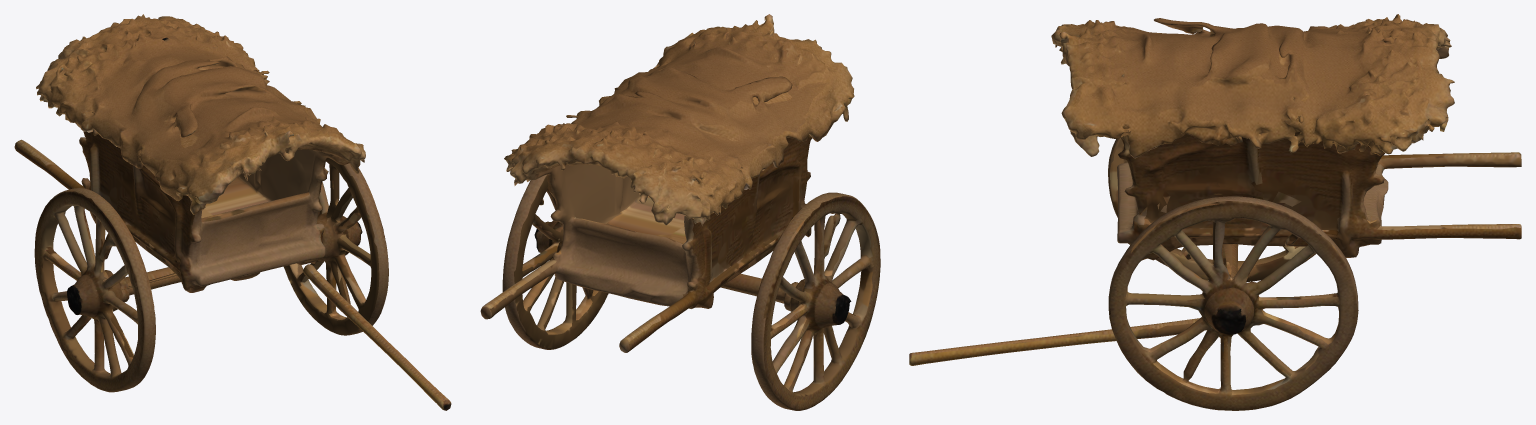
File: carreta.glb
3 views of the same model, side by side, from view 1: azimuth 30°, elevation 25°; view 2: azimuth 150°, elevation 25°; view 3: azimuth 270°, elevation 25° (orthographic). The views are drawn at different scales.
Visible parts, largest first — view 1: temp_mesh.ply; view 2: temp_mesh.ply; view 3: temp_mesh.ply.
Boxes of the visible parts, left/top/right/bottom form: temp_mesh.ply: left=14, top=14, right=451, bottom=410; temp_mesh.ply: left=480, top=14, right=880, bottom=410; temp_mesh.ply: left=909, top=14, right=1521, bottom=410.
Bounding box in the file's own units: 3.19 × 2.94 × 5.2.
1 material, 1 textured.
